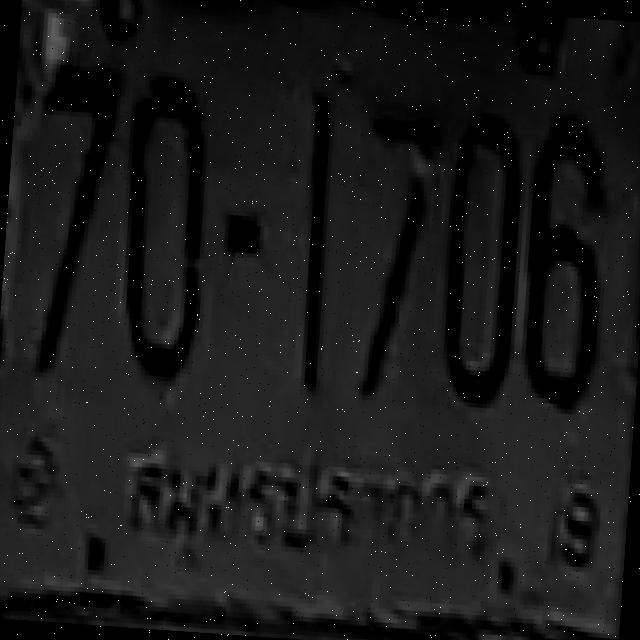0: (434, 110, 524, 404)
7: (35, 56, 121, 236)
SamutPrakan: (107, 420, 503, 584)
